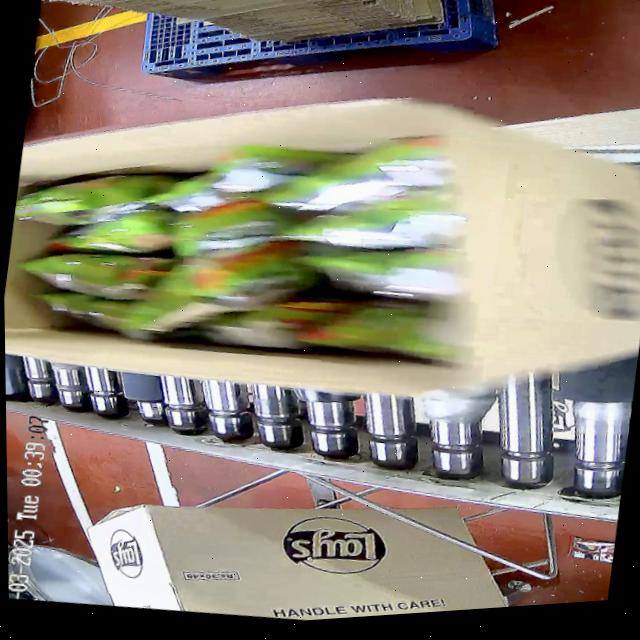YOGURT_HERB: (16, 94, 479, 407)
